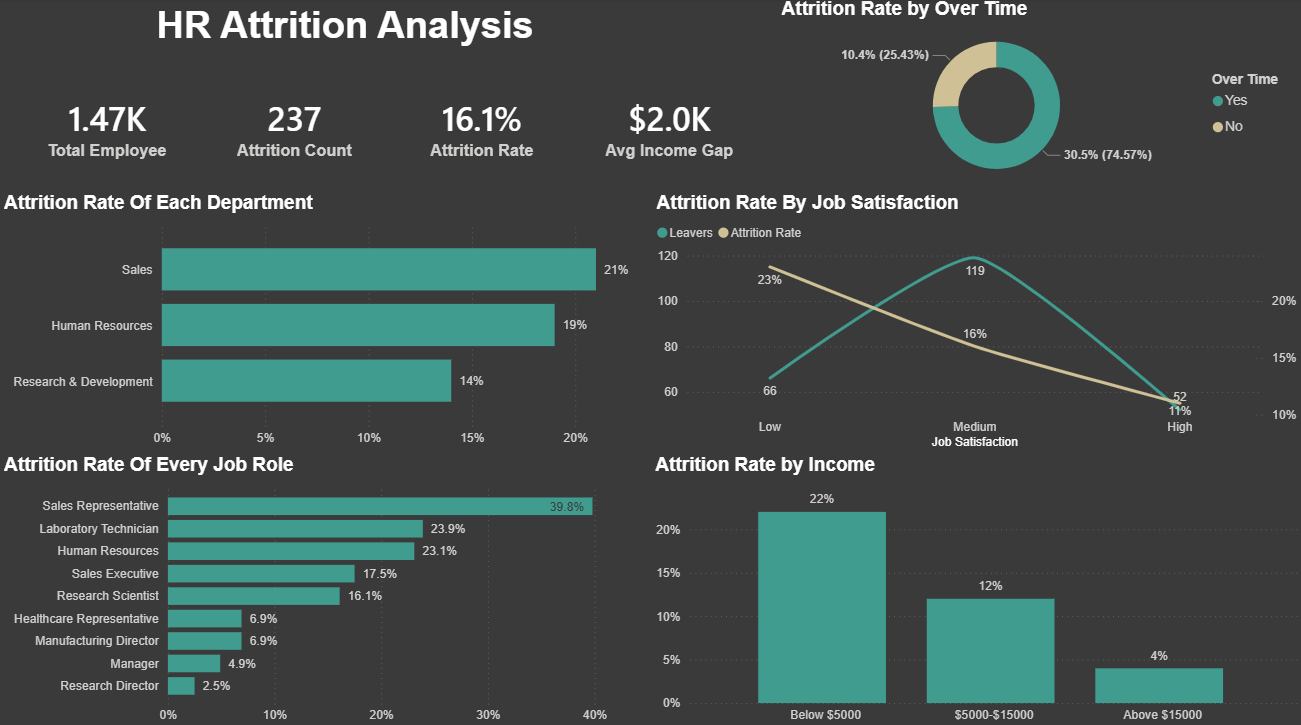

The page's visual inventory and layout, read from the dashboard file:
{"tool":"powerbi","page":{"name":"Page 1","canvas":[1280,720],"ordinal":0},"visuals":[{"type":"barChart","title":"Attrition Rate Of Each Department","fields":{"Category":["Overall_Attrition_Rate_by_Department.Department"],"Y":["Sum(Overall_Attrition_Rate_by_Department.Attrition_Rate)"]},"box":[0,190.3,639.4,257.5],"z":0},{"type":"clusteredBarChart","title":"Attrition Rate Of Every Job Role","fields":{"Category":["Attrition_by_Job_Role.JobRole"],"Y":["Sum(Attrition_by_Job_Role.Attrition_Rate)"]},"box":[0,447.8,639.4,272.4],"z":1000},{"type":"columnChart","fields":{"Category":["Income_vs_Attrition_A.Income_Segment"],"Y":["Sum(Income_vs_Attrition_A.Attrition_Rate)"]},"box":[639.4,447.8,640.6,272.4],"z":2000},{"type":"donutChart","fields":{"Category":["Overtime_vs_Attrition.OverTime"],"Y":["Sum(Overtime_vs_Attrition.Attrition_Rate)"]},"box":[763.8,0,516.2,190.3],"z":3000},{"type":"lineChart","title":"Attrition Rate By Job Satisfaction","fields":{"Y":["Sum(Job_Satisfaction_vs_Attrition.Leavers)"],"Category":["Job_Satisfaction_vs_Attrition.Job_Satisfaction"],"Y2":["Sum(Job_Satisfaction_vs_Attrition.Attrition_Rate)"]},"box":[640.6,190.3,639.4,257.5],"z":4000},{"type":"textbox","box":[0,0,679.2,63.4],"z":4001},{"type":"cardVisual","fields":{"Data":["Sum(Attrition_by_Job_Role.Total_Employee)","Sum(Attrition_by_Job_Role.Attrition_Count)","Attrition_by_Job_Role.Sum of Attrition_Count divided by Sum of Total_Employee","Income_vs_Attrition_B.Avg Income Gap"]},"box":[0,63.4,763.8,126.9],"z":4002}]}

Visuals, with their boxes in screenshot pixels (x1, y1, x2, y2), scaled from the page's 1280x720 canvas onto the 1301x725 screenshot:
"Attrition Rate Of Each Department" barChart: {"x1": 0, "y1": 192, "x2": 650, "y2": 451}
"Attrition Rate Of Every Job Role" clusteredBarChart: {"x1": 0, "y1": 451, "x2": 650, "y2": 724}
columnChart - Income_vs_Attrition_A.Income_Segment x Sum(Income_vs_Attrition_A.Attrition_Rate): {"x1": 650, "y1": 451, "x2": 1300, "y2": 724}
donutChart - Overtime_vs_Attrition.OverTime x Sum(Overtime_vs_Attrition.Attrition_Rate): {"x1": 776, "y1": 0, "x2": 1300, "y2": 192}
"Attrition Rate By Job Satisfaction" lineChart: {"x1": 651, "y1": 192, "x2": 1300, "y2": 451}
textbox: {"x1": 0, "y1": 0, "x2": 690, "y2": 64}
cardVisual - Sum(Attrition_by_Job_Role.Total_Employee) x Sum(Attrition_by_Job_Role.Attrition_Count): {"x1": 0, "y1": 64, "x2": 776, "y2": 192}
